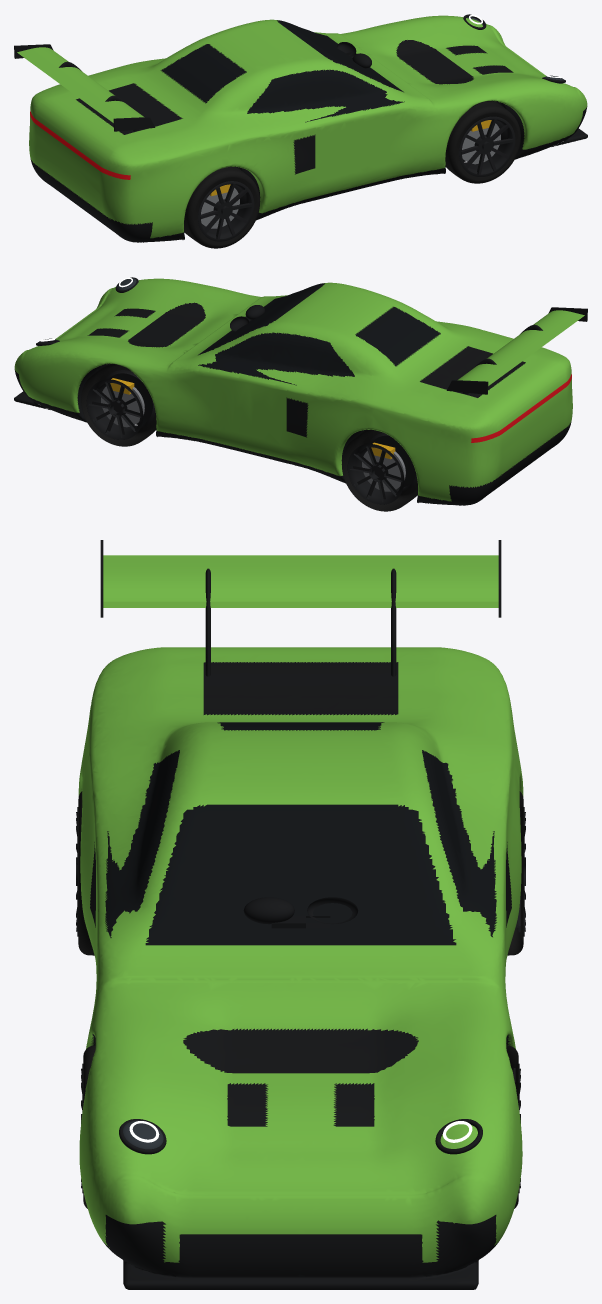
3 views of the same model, one above another, from view 1: azimuth 30°, elevation 25°; view 2: azimuth 150°, elevation 25°; view 3: azimuth 270°, elevation 25° (orthographic). The views are drawn at different scales.
Visible parts, largest first — view 1: carroceria, piezas; view 2: carroceria, piezas; view 3: carroceria, piezas.
Boxes of the visible parts, bbox=[...] form: carroceria: bbox=[29, 15, 587, 242]; piezas: bbox=[14, 14, 565, 248]; carroceria: bbox=[14, 278, 572, 505]; piezas: bbox=[36, 277, 587, 511]; carroceria: bbox=[78, 647, 523, 1289]; piezas: bbox=[76, 540, 525, 1208].
Size of the model in its own units: 4.55 by 1.38 by 1.84.
